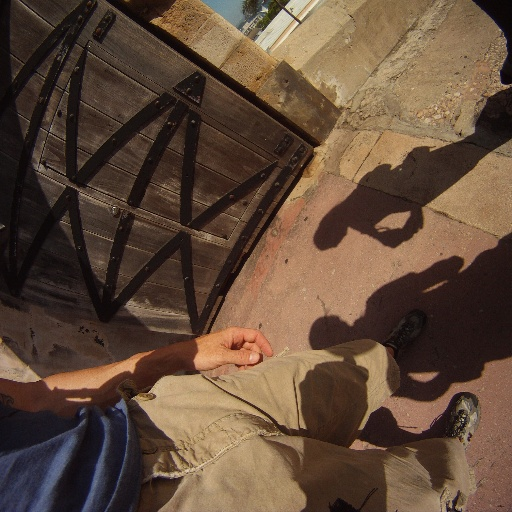hand: (187, 330, 272, 380)
